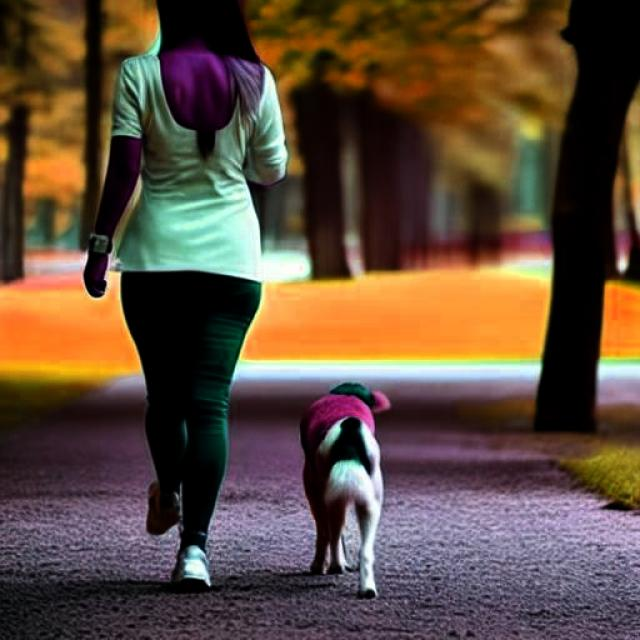Unleashed_Dog: (124, 232, 392, 598)
